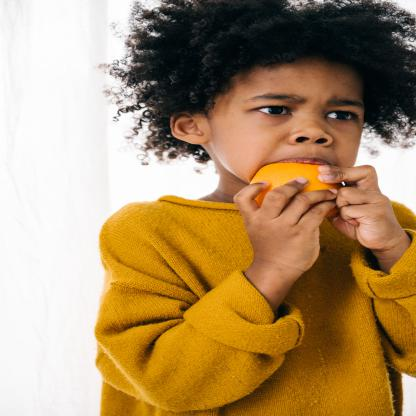Eye: (248, 97, 298, 120), (322, 104, 364, 126)
Nose: (289, 112, 335, 150)
